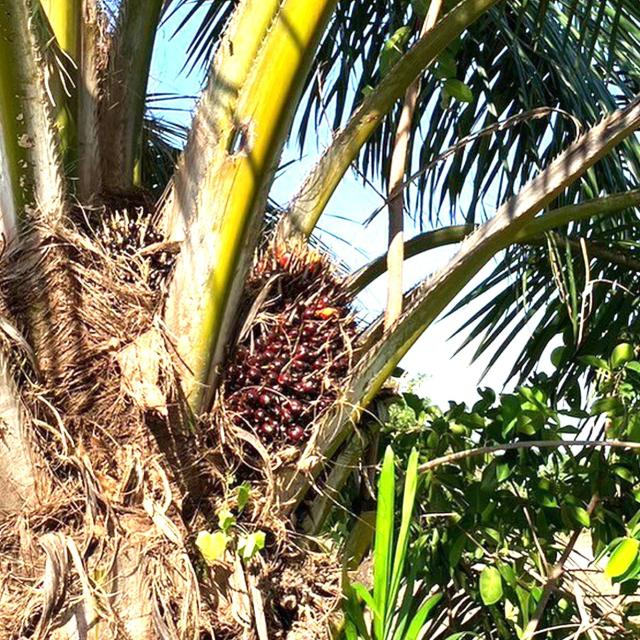ripe: (225, 243, 344, 436)
